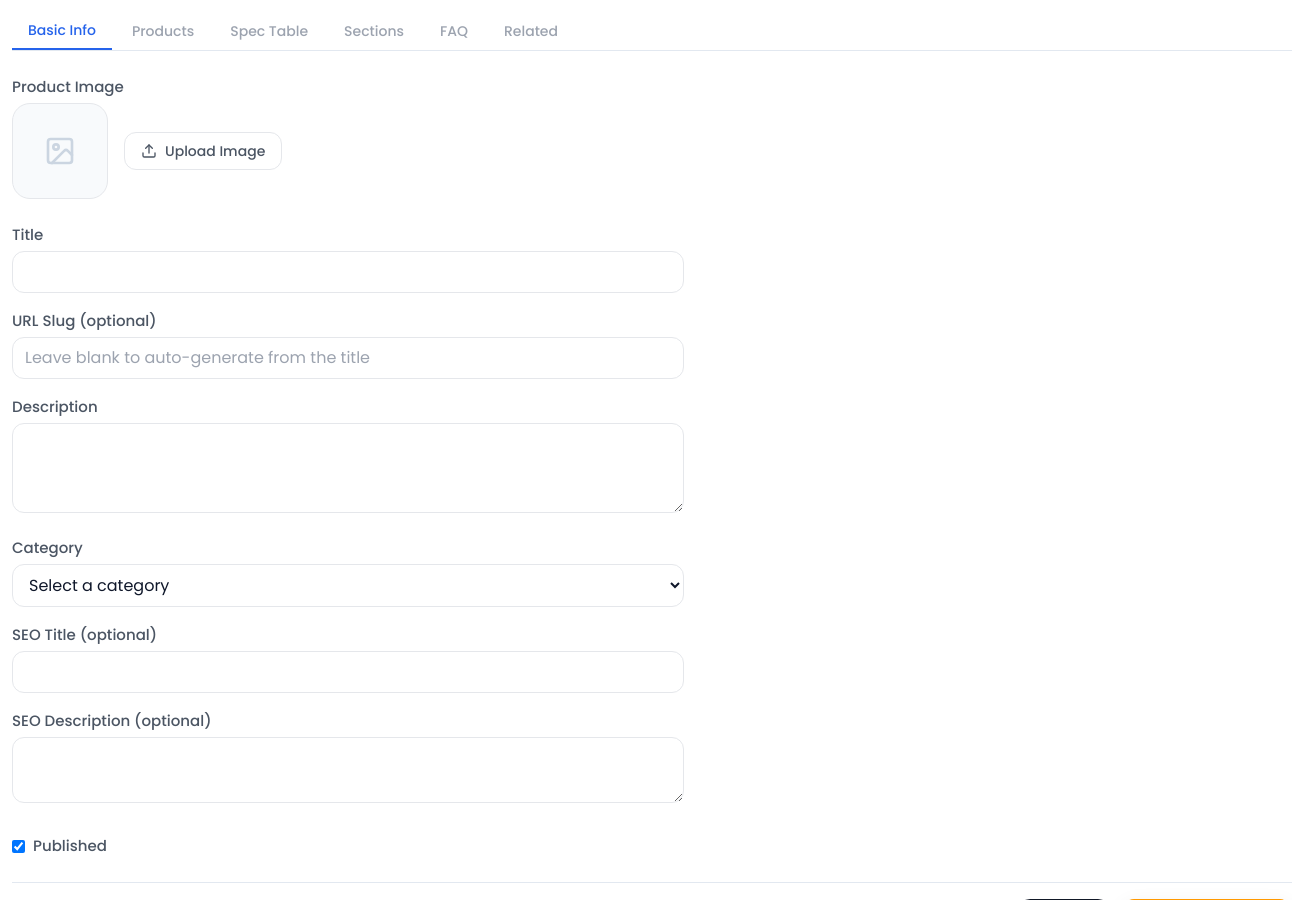
Test: ComparisonForm › adds a product to the Products tab via search
Click the button "Products": (163, 31) x1=116 y1=12 x2=210 y2=50
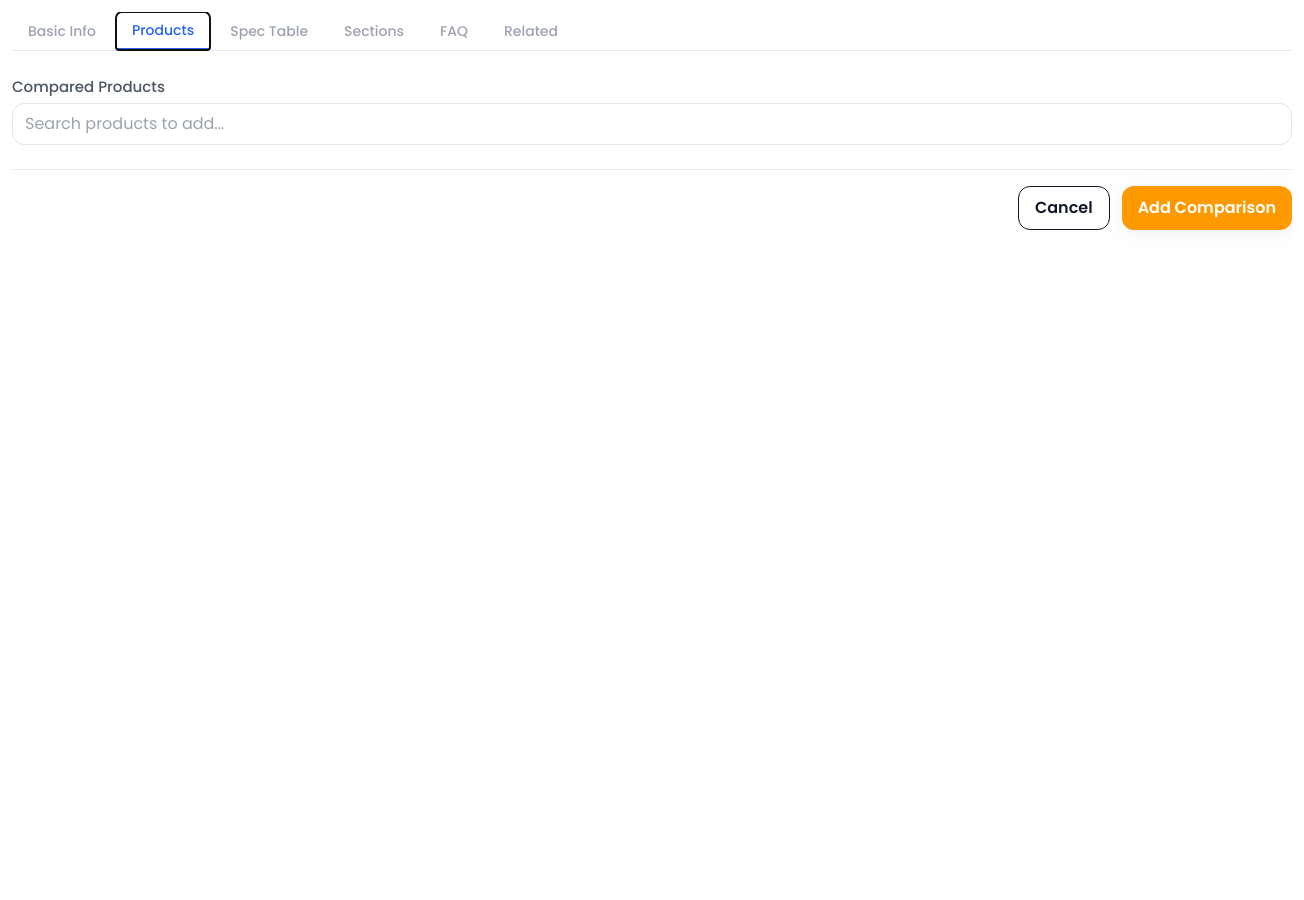
In the field labelled "Compared Products": (652, 124) x1=12 y1=103 x2=1292 y2=145, type "earbuds"
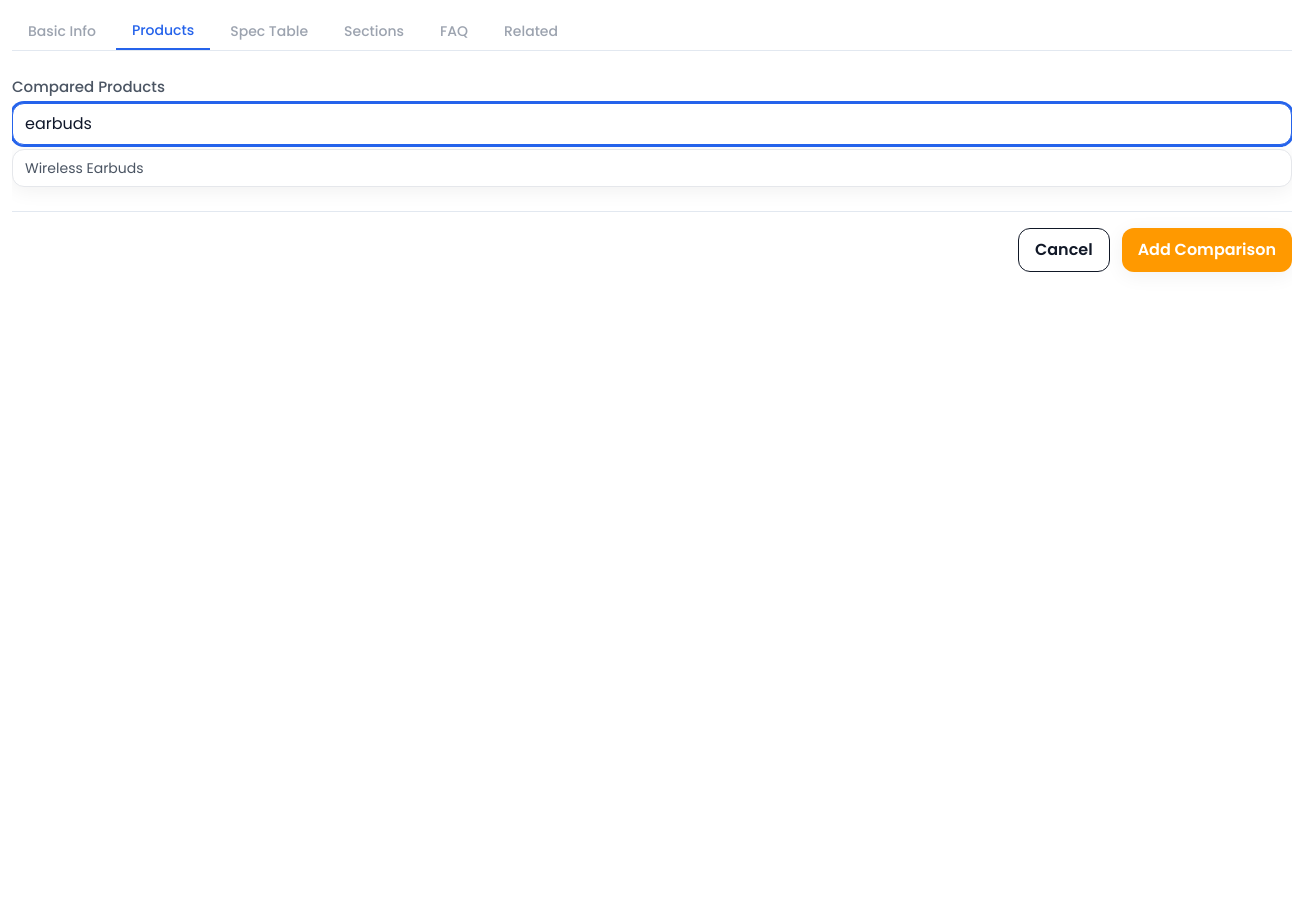
Click the button "Wireless Earbuds": (84, 168) x1=13 y1=150 x2=1291 y2=186
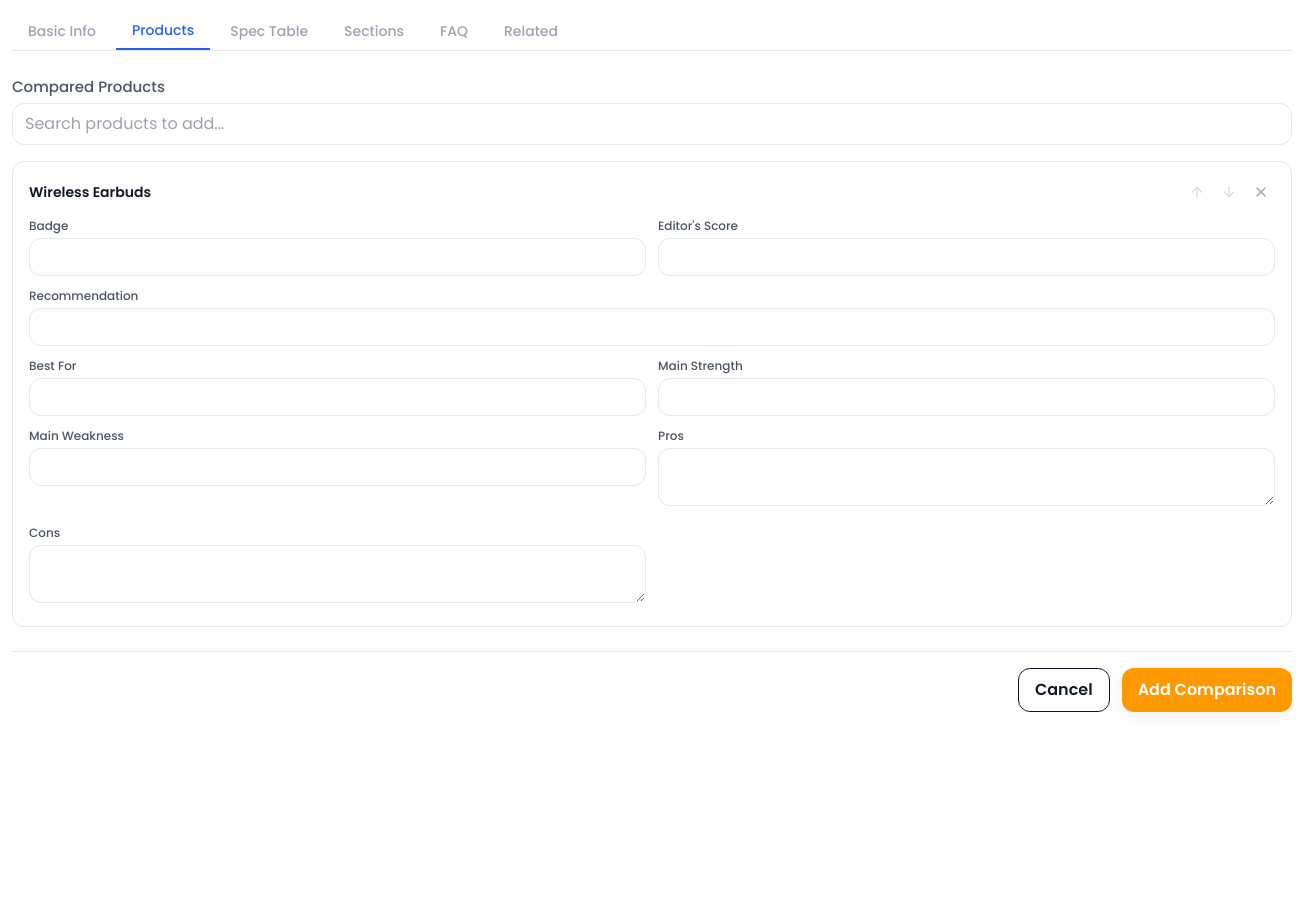
Now the text "Wireless Earbuds" is shown, box x1=29 y1=182 x2=151 y2=202
Now the field labelled "Recommendation" is shown, box x1=29 y1=308 x2=1275 y2=346
